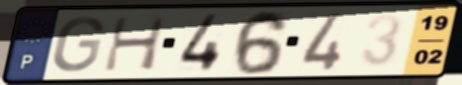3: (359, 11, 408, 69)
4: (175, 12, 223, 74), (300, 10, 346, 72)
6: (230, 8, 293, 77)
G: (49, 15, 107, 74)
H: (100, 14, 170, 74)
